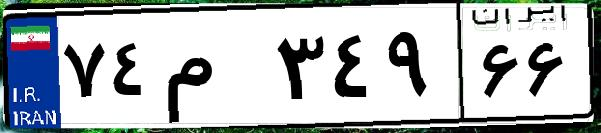3: (270, 28, 330, 110)
4: (330, 28, 385, 110), (110, 28, 158, 98)
6: (475, 38, 525, 113), (525, 38, 570, 115)
7: (57, 26, 110, 100)
9: (385, 28, 445, 110)
م: (158, 20, 270, 120)
